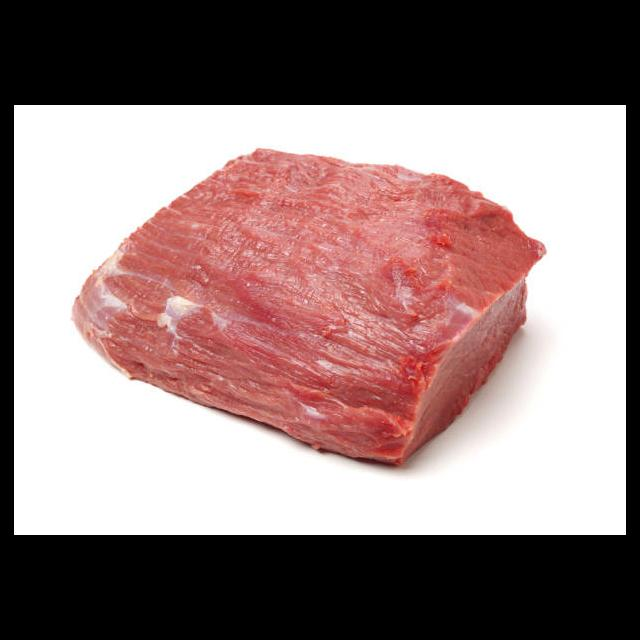beef: (72, 146, 548, 469)
